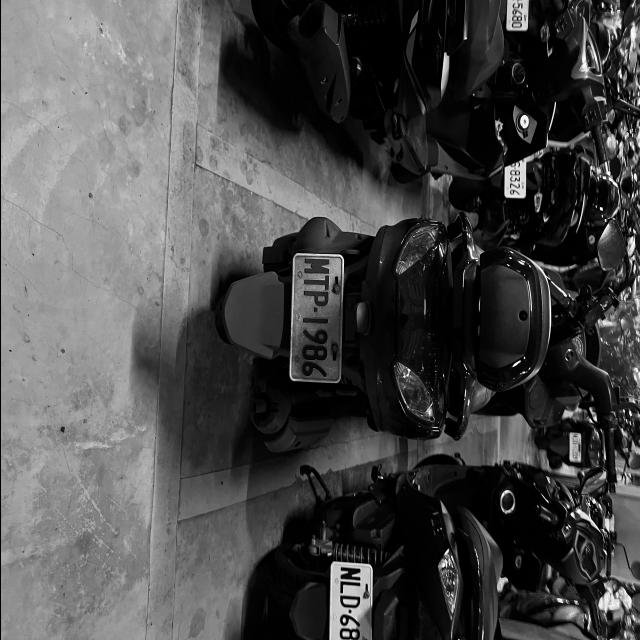-: (310, 306, 320, 314), (346, 608, 352, 614), (512, 168, 516, 170)
0: (509, 22, 522, 28)
1: (302, 317, 328, 325)
2: (509, 183, 519, 189)
3: (509, 176, 519, 182)
5: (512, 3, 522, 8)
6: (300, 360, 328, 378), (339, 614, 360, 627), (509, 190, 519, 196), (512, 9, 522, 15)
8: (302, 344, 328, 360), (338, 628, 361, 640), (509, 170, 519, 176), (511, 16, 521, 22)
9: (303, 327, 328, 345)
D: (338, 594, 360, 608)
L: (338, 581, 361, 595)
M: (303, 258, 329, 274)
N: (339, 567, 362, 581)
P: (302, 291, 330, 307)
T: (303, 275, 330, 291)
plate: (287, 254, 342, 384), (568, 432, 580, 462)
